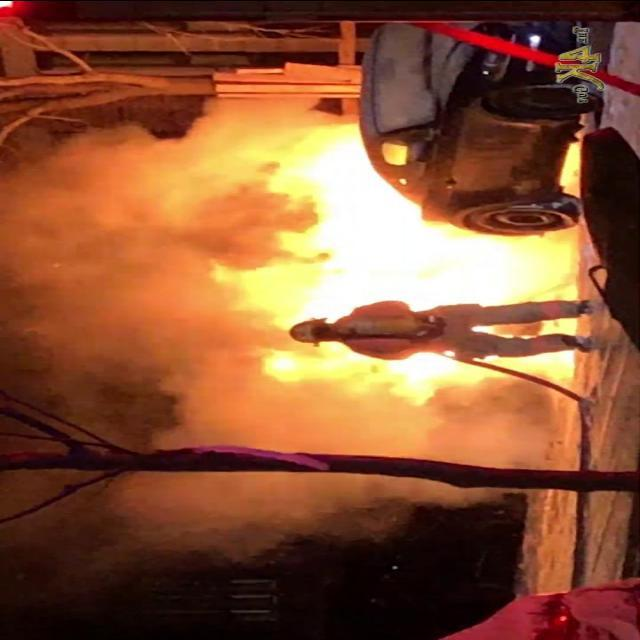Fire: (212, 127, 580, 323), (257, 339, 578, 394)
